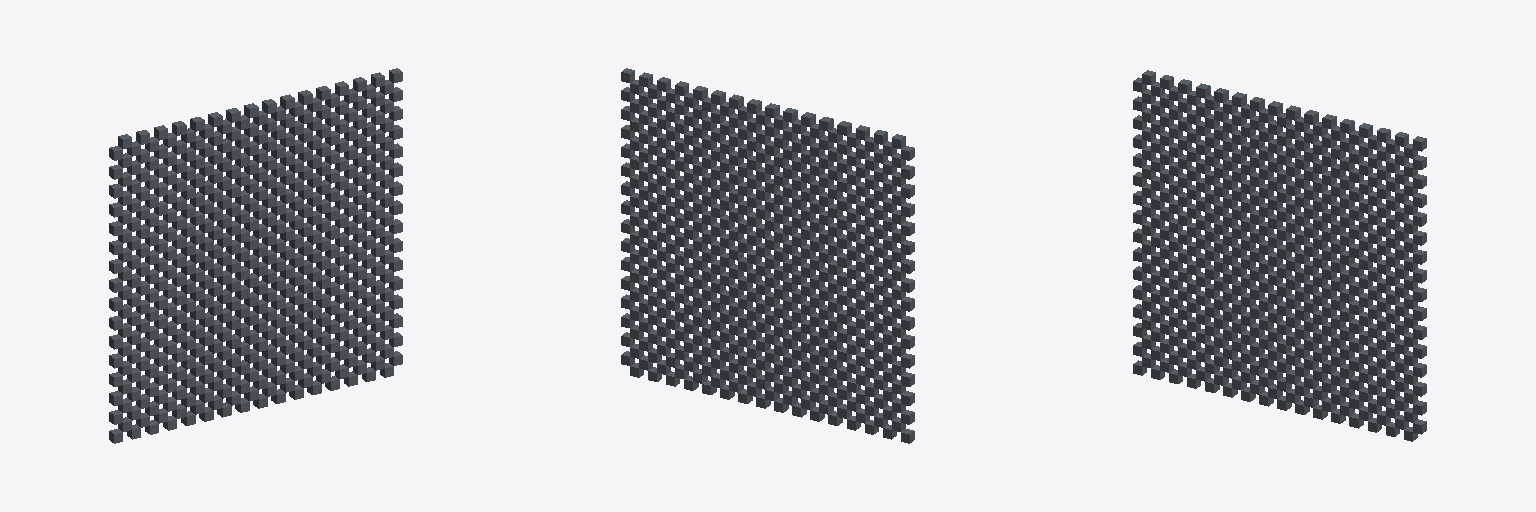
The picture shows the model from 3 angles: view 1: azimuth 30°, elevation 25°; view 2: azimuth 150°, elevation 25°; view 3: azimuth 330°, elevation 25°; orthographic projection.
Parts seen in each view (by area): view 1: Model; view 2: Model; view 3: Model.
Part boxes in pixels (bbox=[...]): Model: bbox=[109, 68, 402, 443]; Model: bbox=[621, 68, 914, 443]; Model: bbox=[1133, 70, 1426, 441].
Size of the model in its own units: 32 by 32 by 1.
Materials: 1 (1 with a texture image).